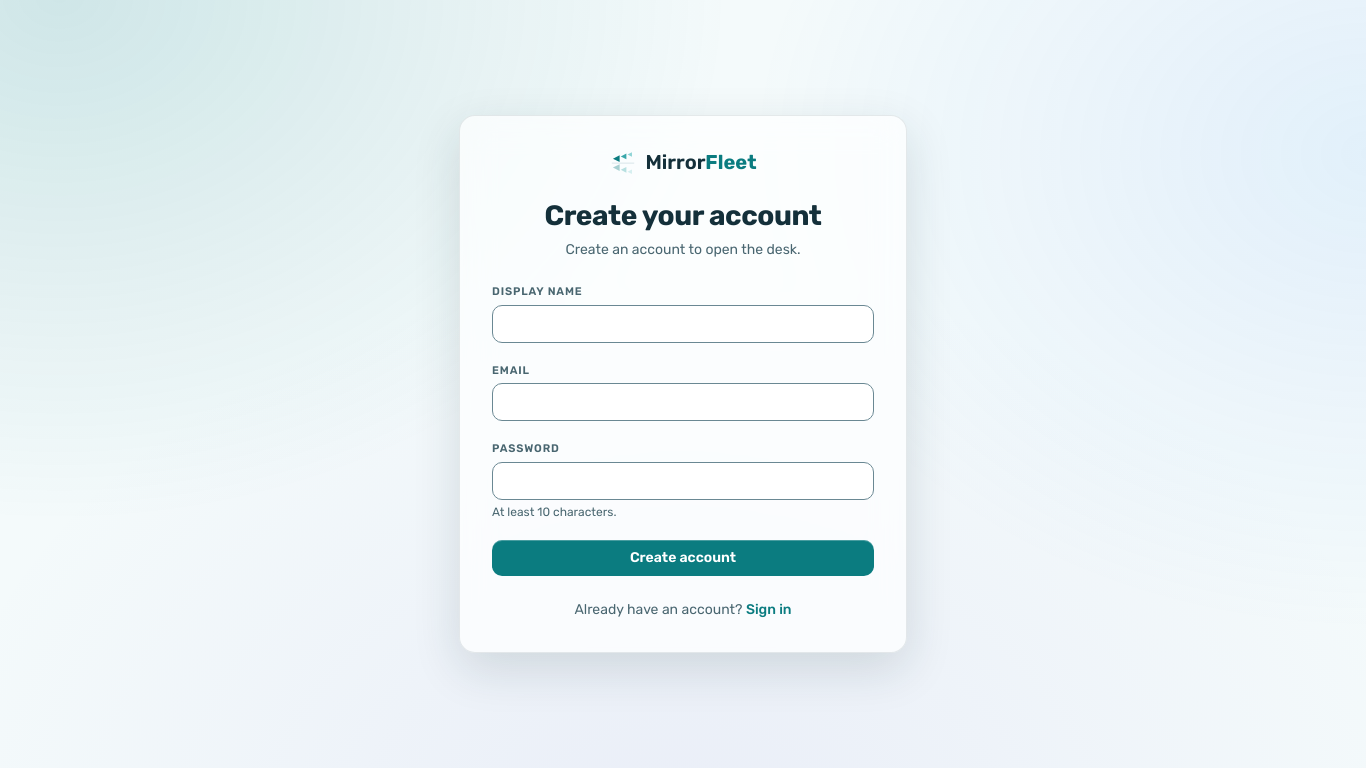
Scenario: shows the server detail on 409 without navigating
Type "Ada Trader" into the field labelled "Display name" at (683, 324), box [492,305,874,343]
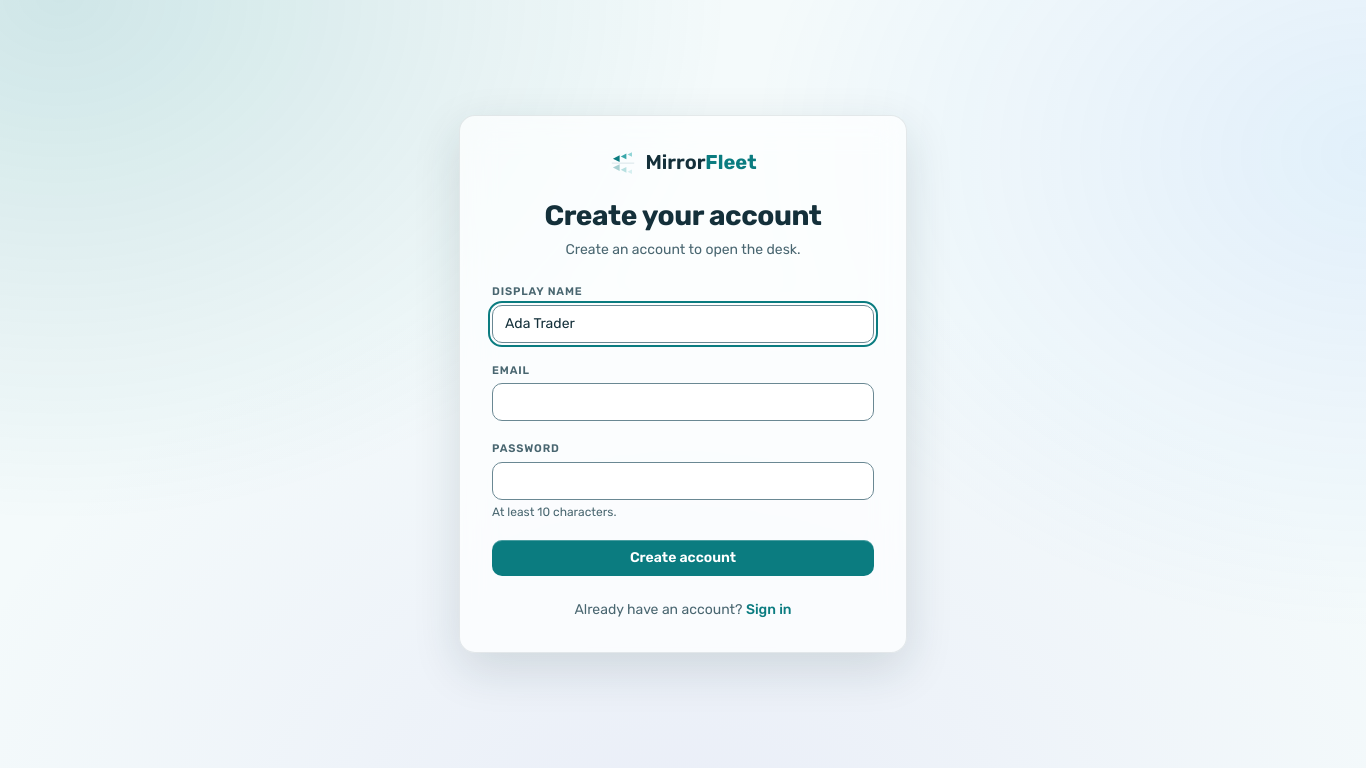
Type "ada@example.com" into the field labelled "Email" at (683, 402), box [492,383,874,421]
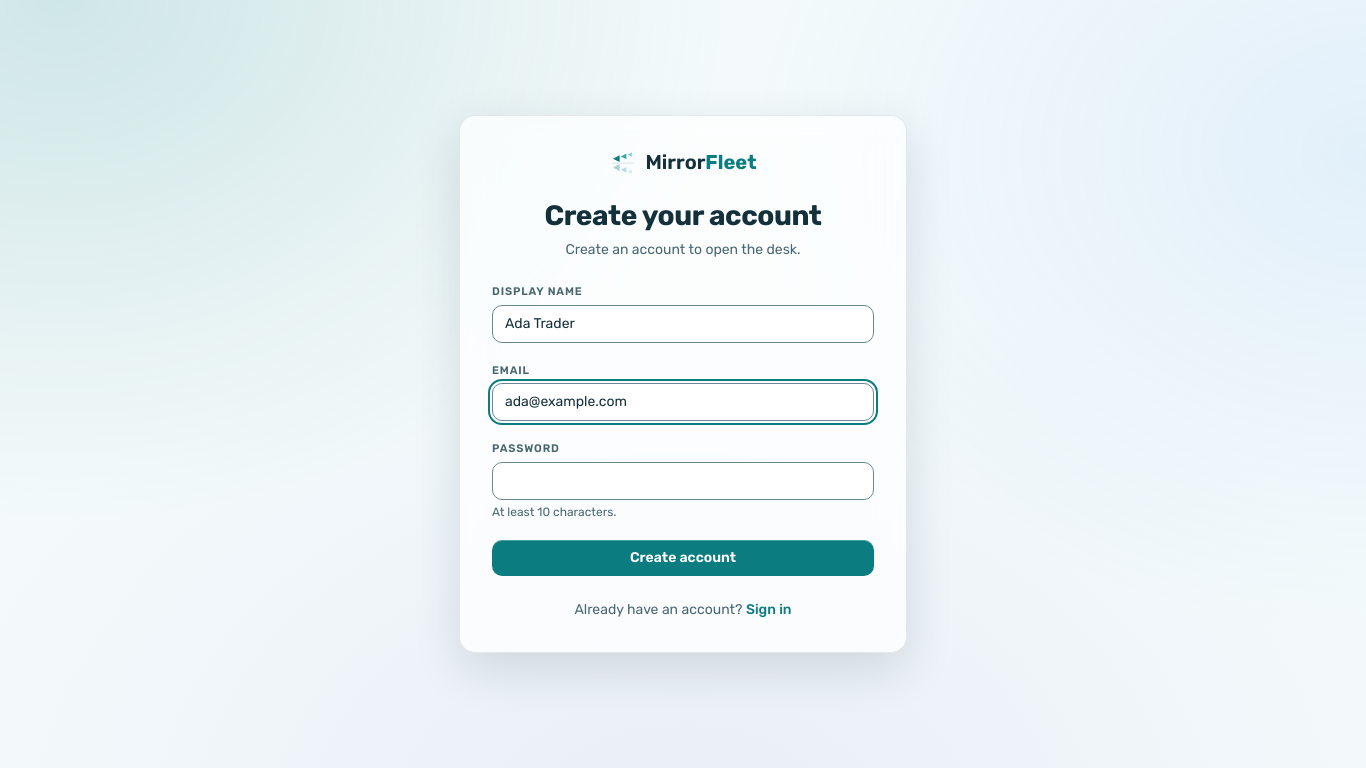
Type "correcthorsebattery" into the password field labelled "Password" at (683, 481), box [492,462,874,500]
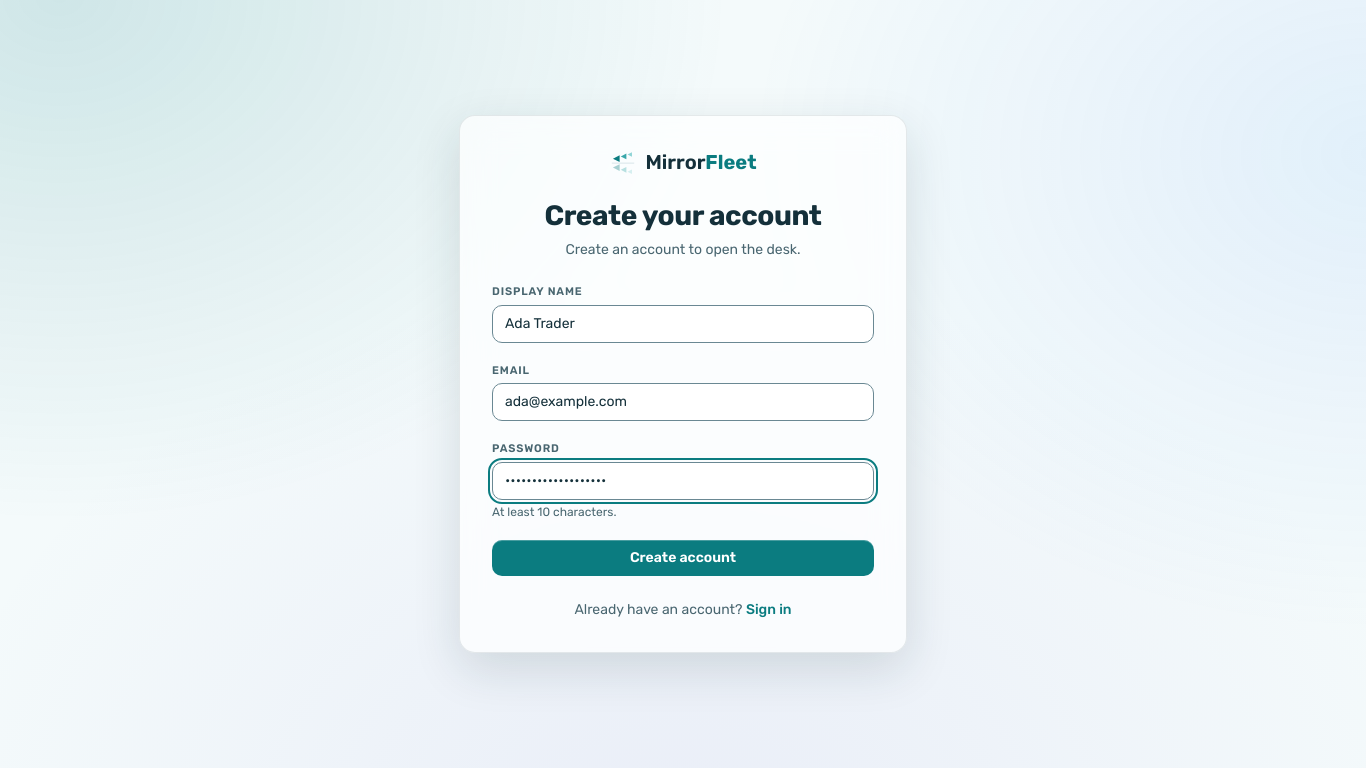
Click the button "Create account" at (683, 558), box [492,540,874,576]
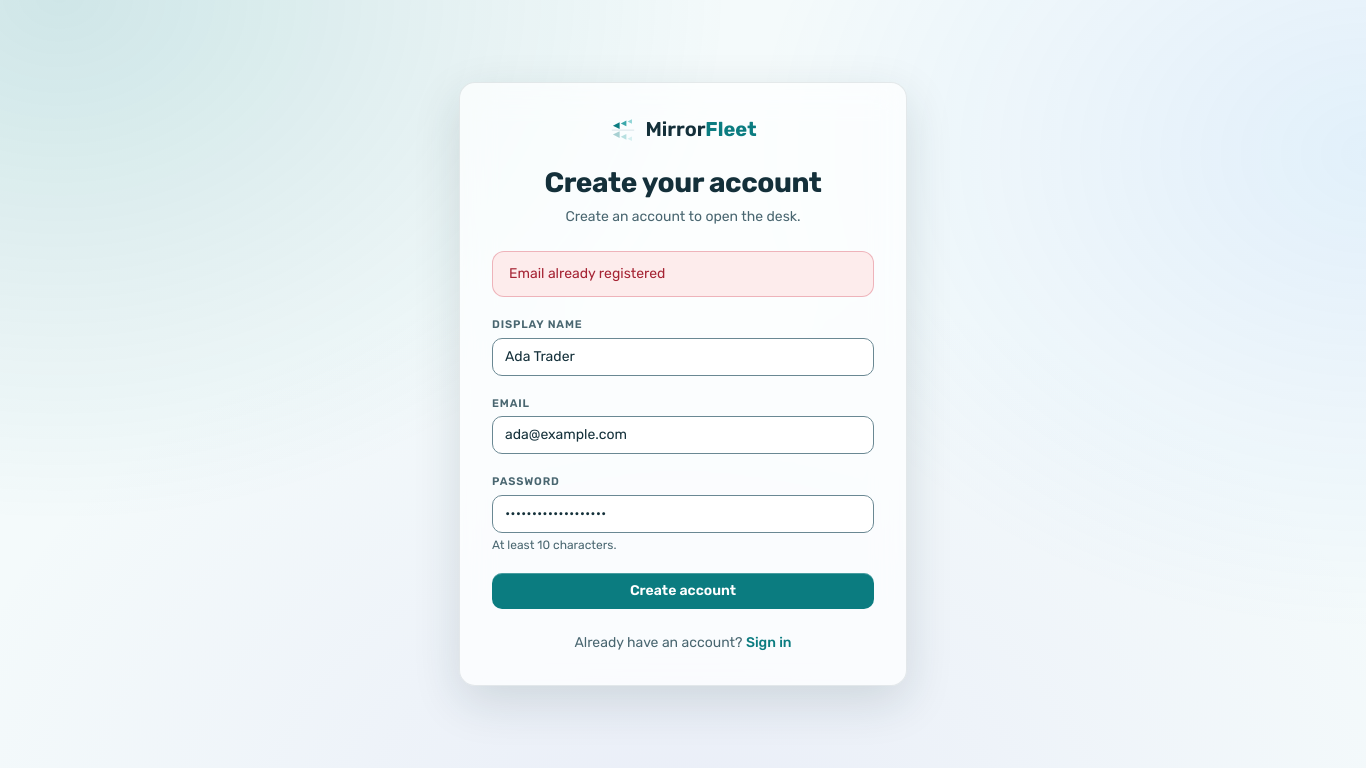
Expected: the text "Email already registered" is shown, [509,264,665,284]
